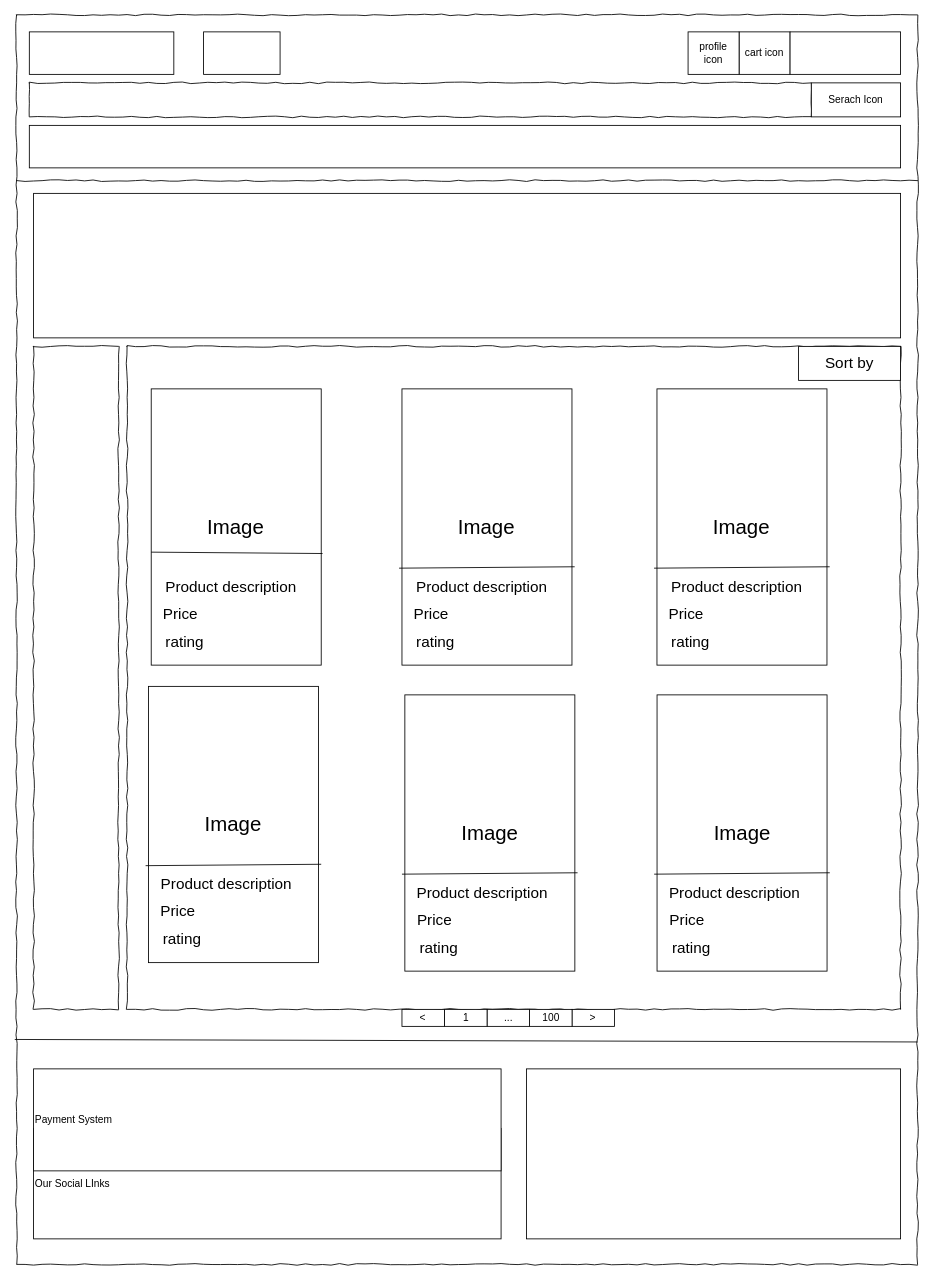
The diagram is 934 pixels wide and 1279 high, and some of its shapes have lost their labels. Each missing label, with the centre of its shape:
"Banner/Carousel" belongs at [467,265].
"Categories" belongs at [464,146].
"Contact Address" belongs at [713,1153].
"Filter" belongs at [76,677].
"Logi in / register + icon" belongs at [845,52].
"Logo" belongs at [101,52].
"Search for products" belongs at [419,99].
"Videos" belongs at [241,52].
